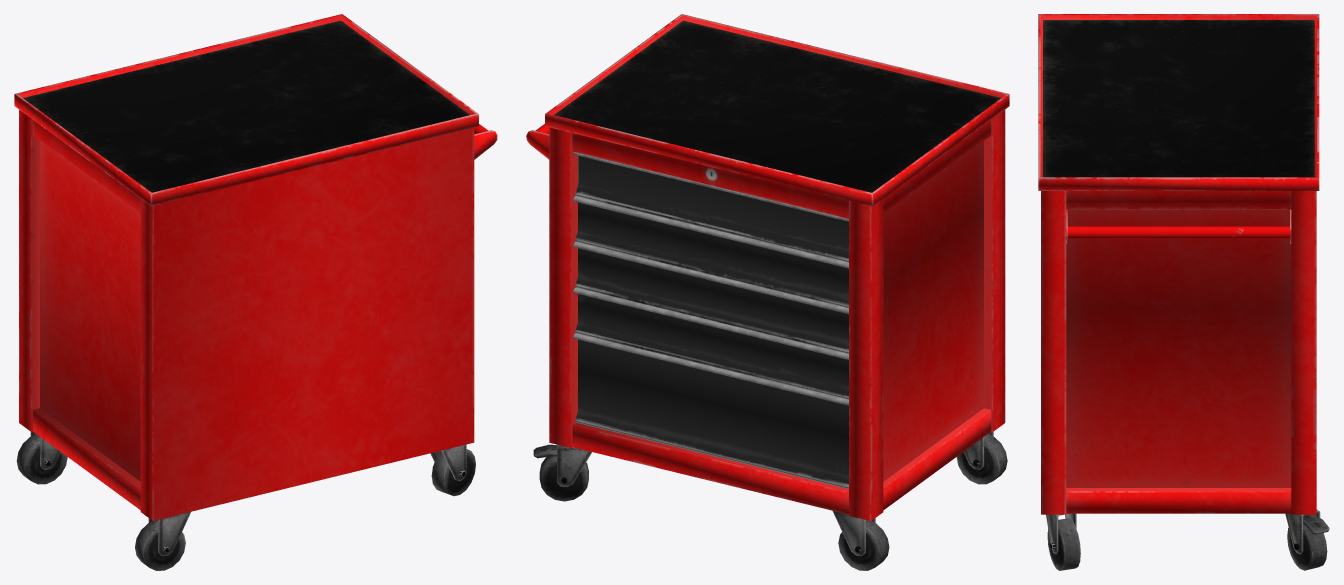
Rendered from free_drawer_tool_cart_used.glb.
3 renders of one model, left to right at view 1: azimuth 30°, elevation 25°; view 2: azimuth 150°, elevation 25°; view 3: azimuth 270°, elevation 25°, orthographic. The views are drawn at different scales.
Visible parts, largest first — view 1: Object_2; view 2: Object_2; view 3: Object_2.
Boxes of the visible parts, <box> form: Object_2: <box>14,14,497,570</box>; Object_2: <box>526,14,1009,570</box>; Object_2: <box>1038,14,1329,570</box>.
Bounding box in the file's own units: 40.01 × 40.53 × 27.05.
1 material, 1 textured.
